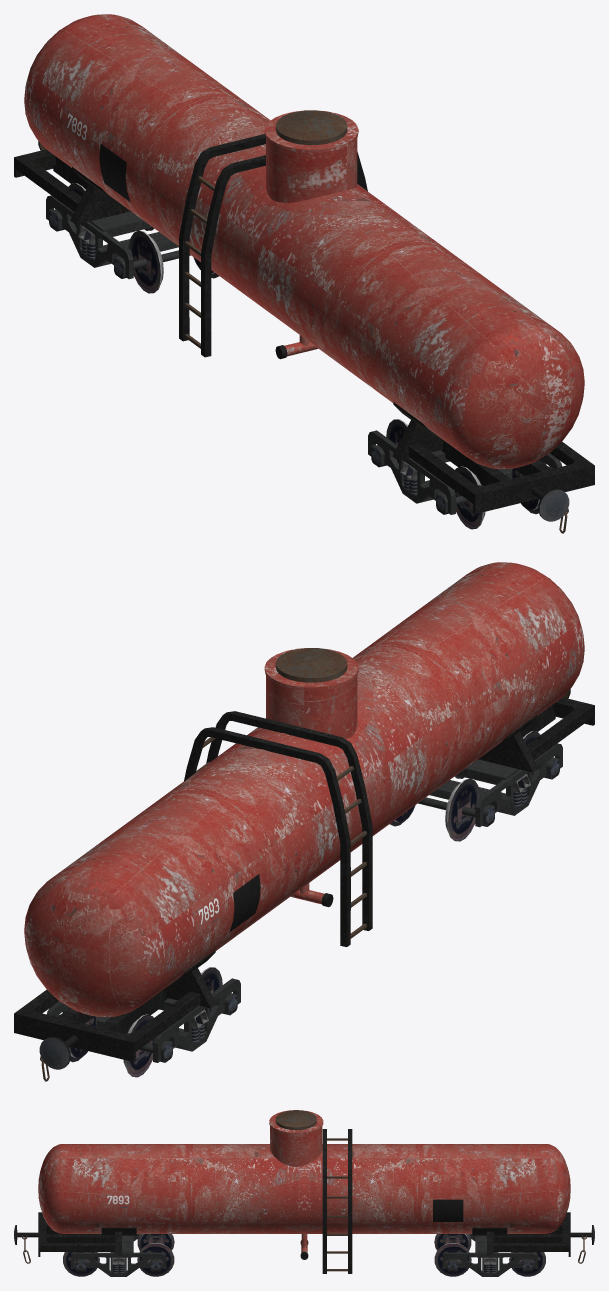
File: soviet_vc20_wagon.obj
The picture shows the model from 3 angles, top to bottom: view 1: azimuth 30°, elevation 25°; view 2: azimuth 150°, elevation 25°; view 3: azimuth 270°, elevation 25°; orthographic projection. The views are drawn at different scales.
Parts seen in each view (by area): view 1: vz20; view 2: vz20; view 3: vz20.
Boxes of the visible parts, x1=… form: vz20: x1=14, y1=14, x2=594, y2=533; vz20: x1=14, y1=562, x2=594, y2=1081; vz20: x1=14, y1=1110, x2=594, y2=1276.
Bounding box in the file's own units: 2.34 × 3.48 × 12.14.
